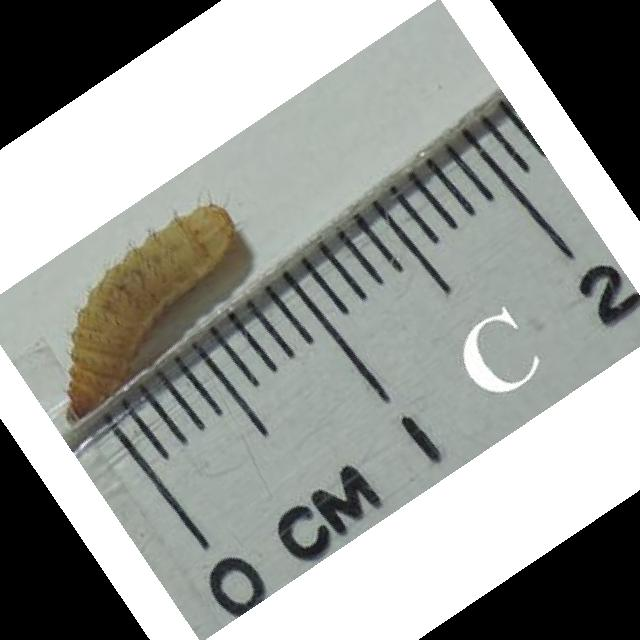Maggot: (59, 198, 239, 422)
